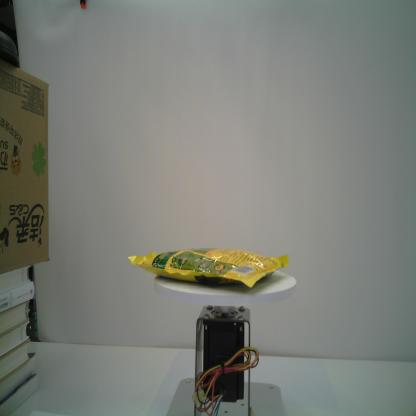Seasoner: (127, 246, 290, 291)
